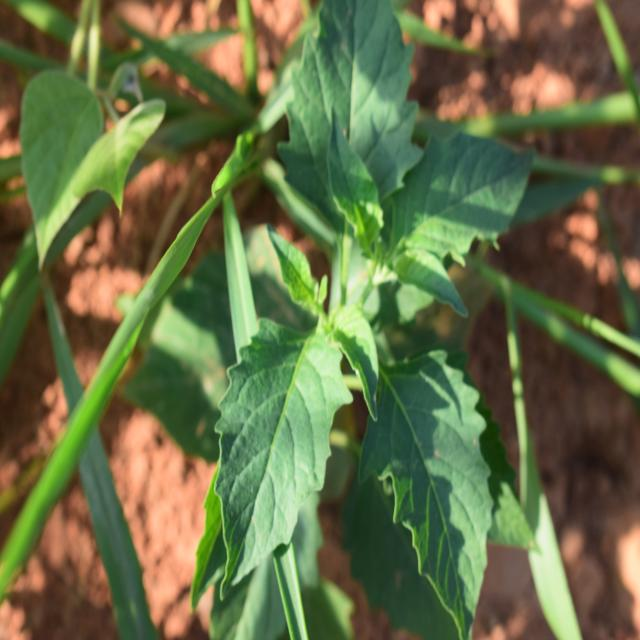Black_nightshade: (229, 5, 507, 607)
